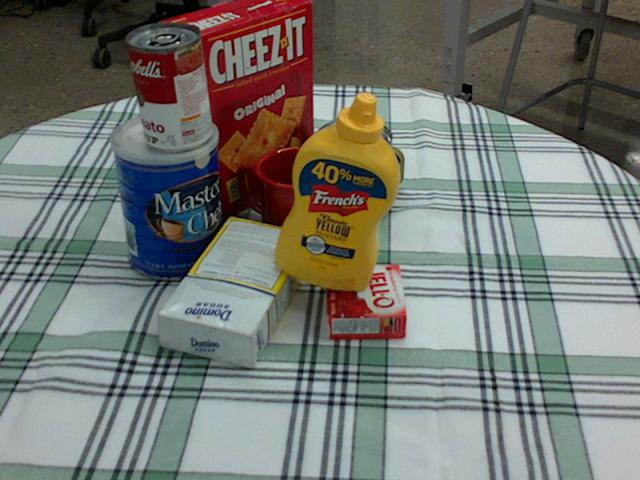cracker_box: (159, 0, 312, 220)
gelatin_box: (326, 263, 405, 339)
master_chef_can: (109, 112, 225, 281)
mug: (238, 144, 340, 247)
mustard_bottle: (274, 92, 400, 290)
potted_meat_can: (298, 133, 401, 217)
sugar_box: (158, 215, 312, 367)
tomato_soup_can: (128, 22, 211, 150)
tuna_fish_can: (314, 119, 391, 179)
